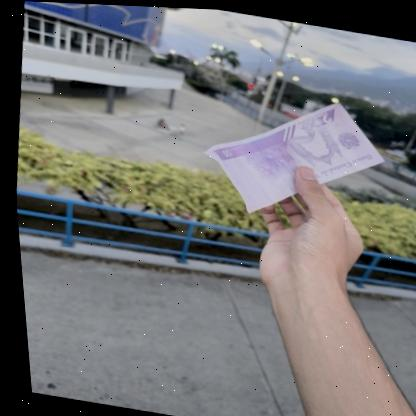one_hundred-back-vef: (187, 76, 393, 233)
